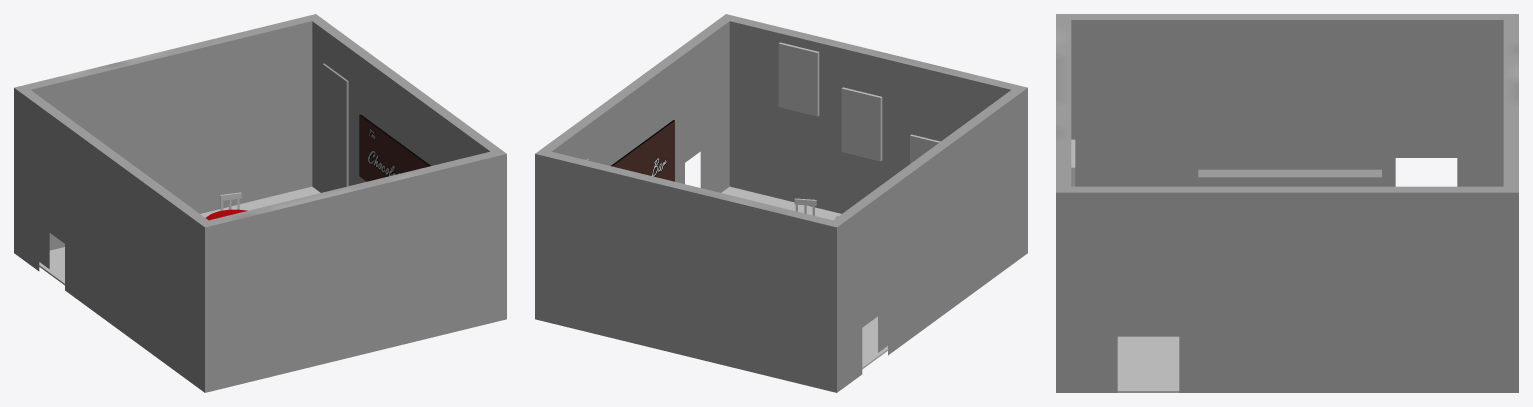
The model's file is Level3.fbx.
The picture shows the model from 3 angles, left to right: view 1: azimuth 30°, elevation 25°; view 2: azimuth 150°, elevation 25°; view 3: azimuth 270°, elevation 25°; orthographic projection. The views are drawn at different scales.
Parts seen in each view (by area): view 1: pPlane1, pCube36, pCube35, pCube4; view 2: pPlane1, pCube37, pCube38, pCube35, pCube4, pCube39; view 3: pPlane1, pCube4, pCube5.
Part boxes in pixels (x1=…): pPlane1: x1=14, y1=14, x2=506, y2=392; pCube36: x1=322, y1=63, x2=348, y2=187; pCube35: x1=359, y1=114, x2=430, y2=181; pCube4: x1=39, y1=186, x2=320, y2=285; pPlane1: x1=535, y1=14, x2=1027, y2=392; pCube37: x1=778, y1=42, x2=819, y2=116; pCube38: x1=841, y1=87, x2=882, y2=161; pCube35: x1=611, y1=120, x2=674, y2=181; pCube4: x1=721, y1=186, x2=887, y2=369; pCube39: x1=910, y1=134, x2=940, y2=163; pPlane1: x1=1056, y1=14, x2=1518, y2=392; pCube4: x1=1117, y1=336, x2=1179, y2=392; pCube5: x1=1198, y1=169, x2=1381, y2=186.
Size of the model in its own units: 112 by 59.56 by 122.
